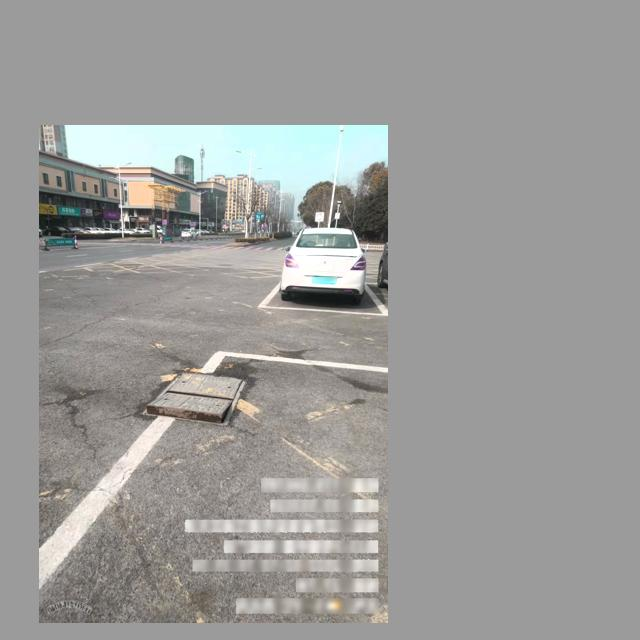uncovered: (142, 371, 245, 427)
